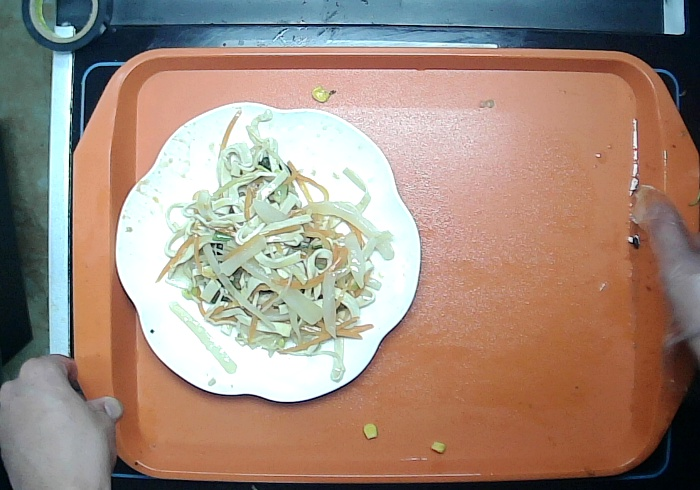HZYJPL-Bai_Se_Hua_Duo_Wan: (109, 98, 425, 409)
